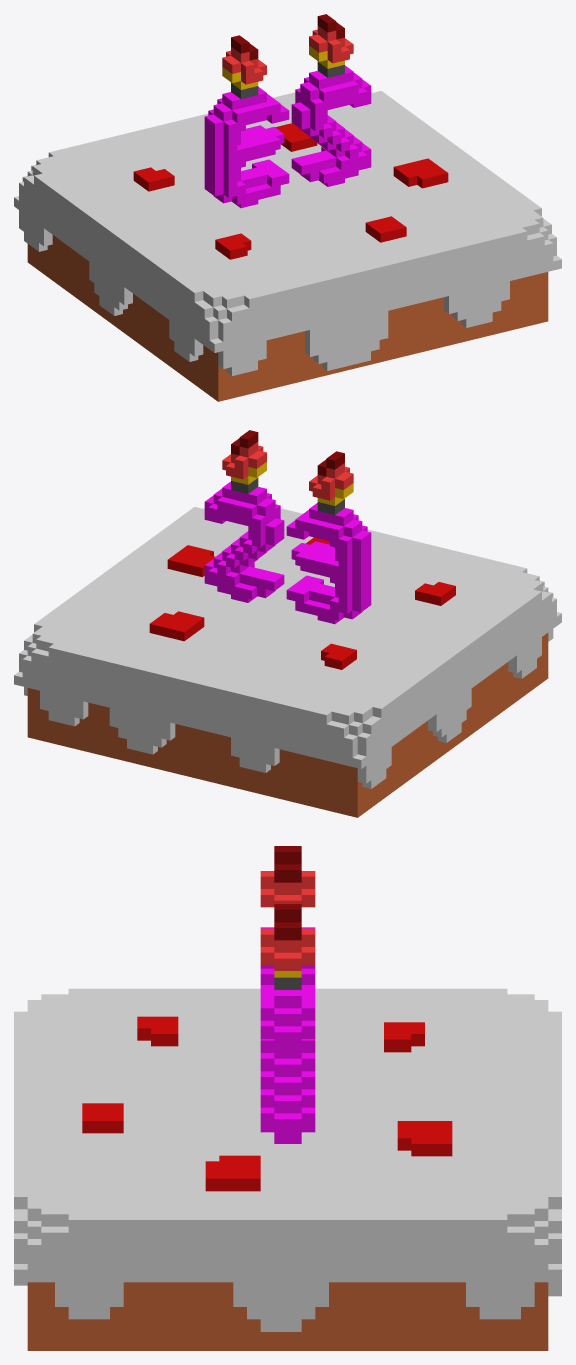
3 renders of one model, top to bottom at view 1: azimuth 30°, elevation 25°; view 2: azimuth 150°, elevation 25°; view 3: azimuth 270°, elevation 25°, orthographic. The views are drawn at different scales.
Parts seen in each view (by area): view 1: Untitled; view 2: Untitled; view 3: Untitled.
Part boxes in pixels (left/top/right/bottom): Untitled: left=14, top=14, right=561, bottom=401; Untitled: left=14, top=430, right=561, bottom=817; Untitled: left=14, top=846, right=561, bottom=1350.
Bounding box in the file's own units: 4 × 2.9 × 4.
1 material, 1 textured.
